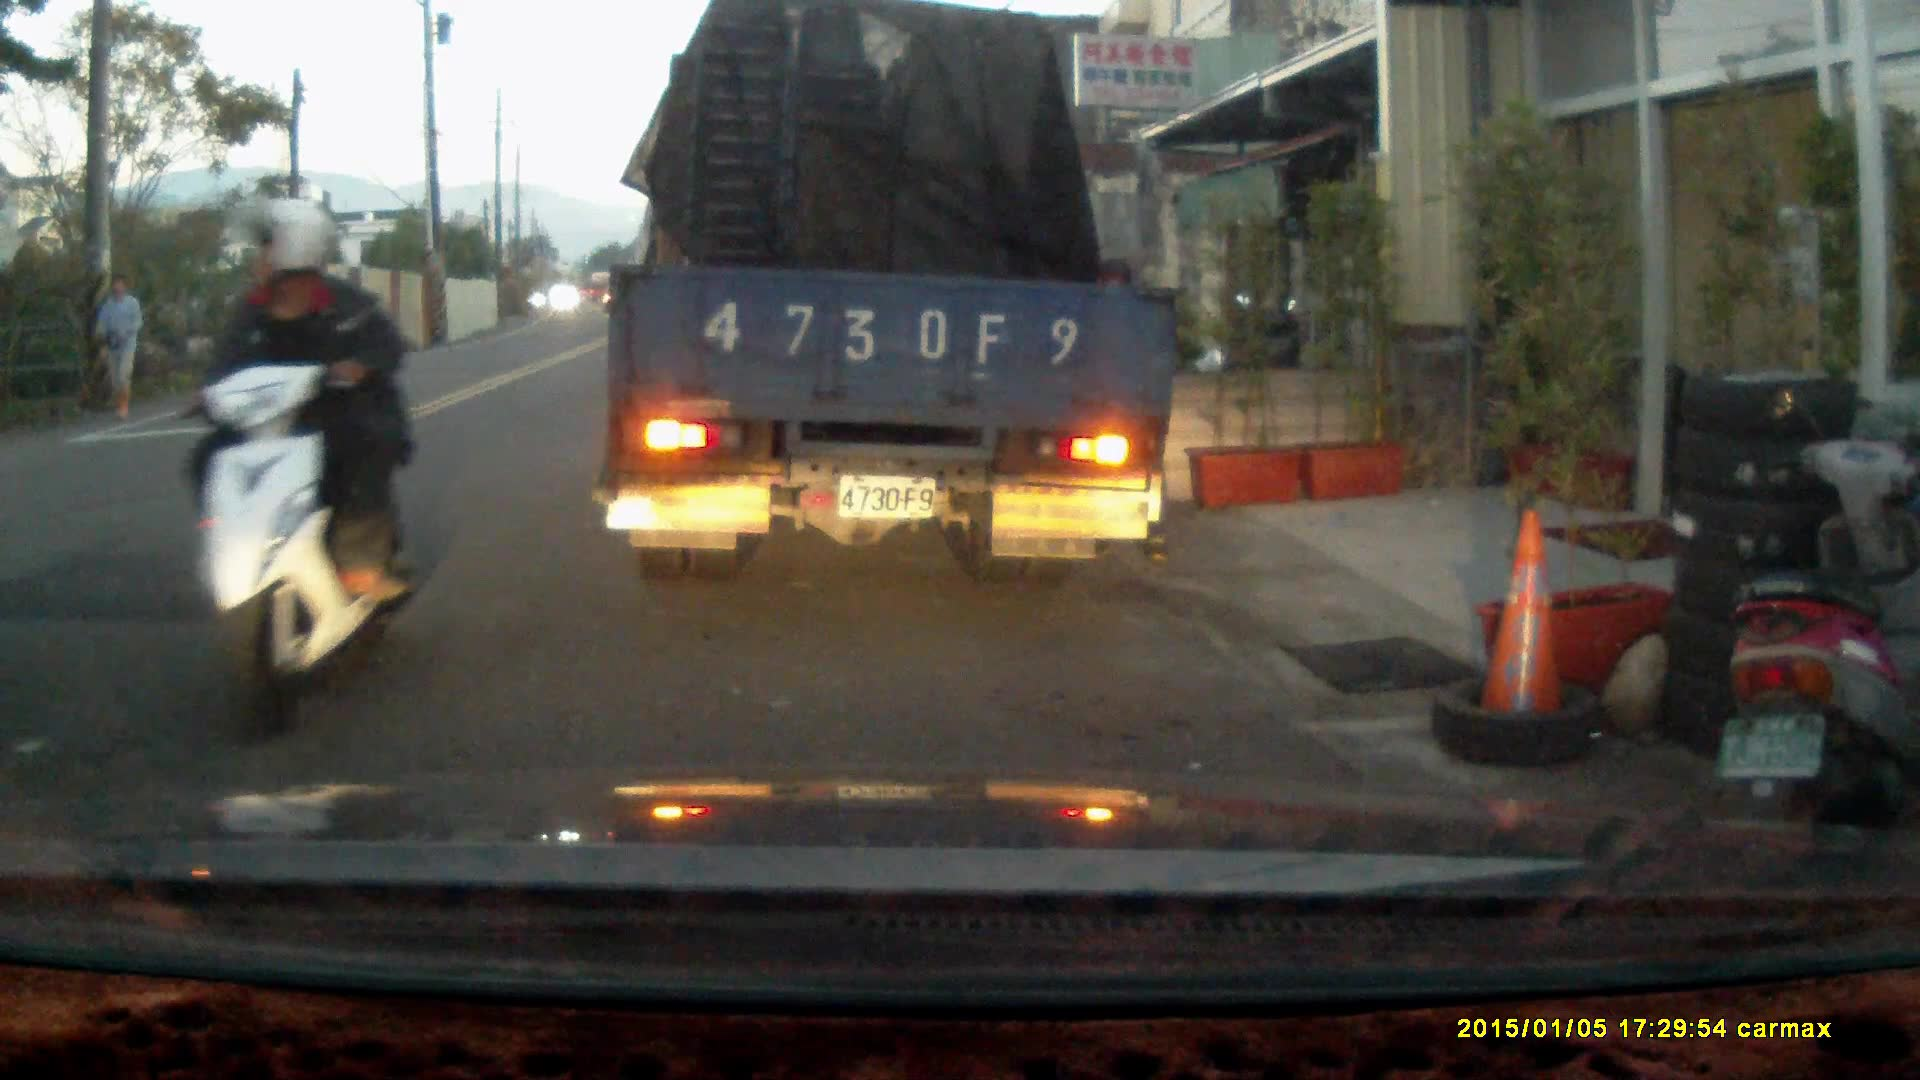pedestrian: (94, 270, 147, 419)
rider: (157, 194, 417, 746)
vehicle: (600, 23, 1187, 572)
